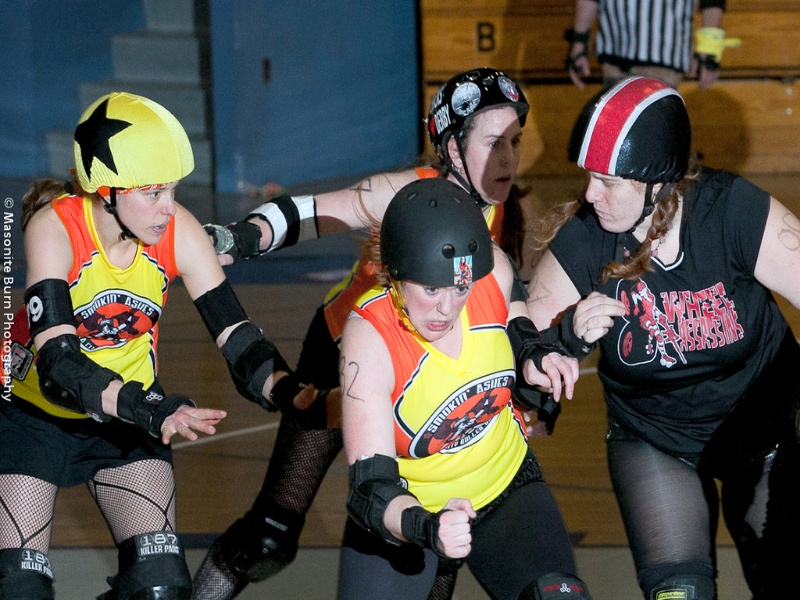Baret: (567, 76, 693, 185), (72, 91, 196, 200), (382, 179, 498, 287), (423, 67, 532, 137)
